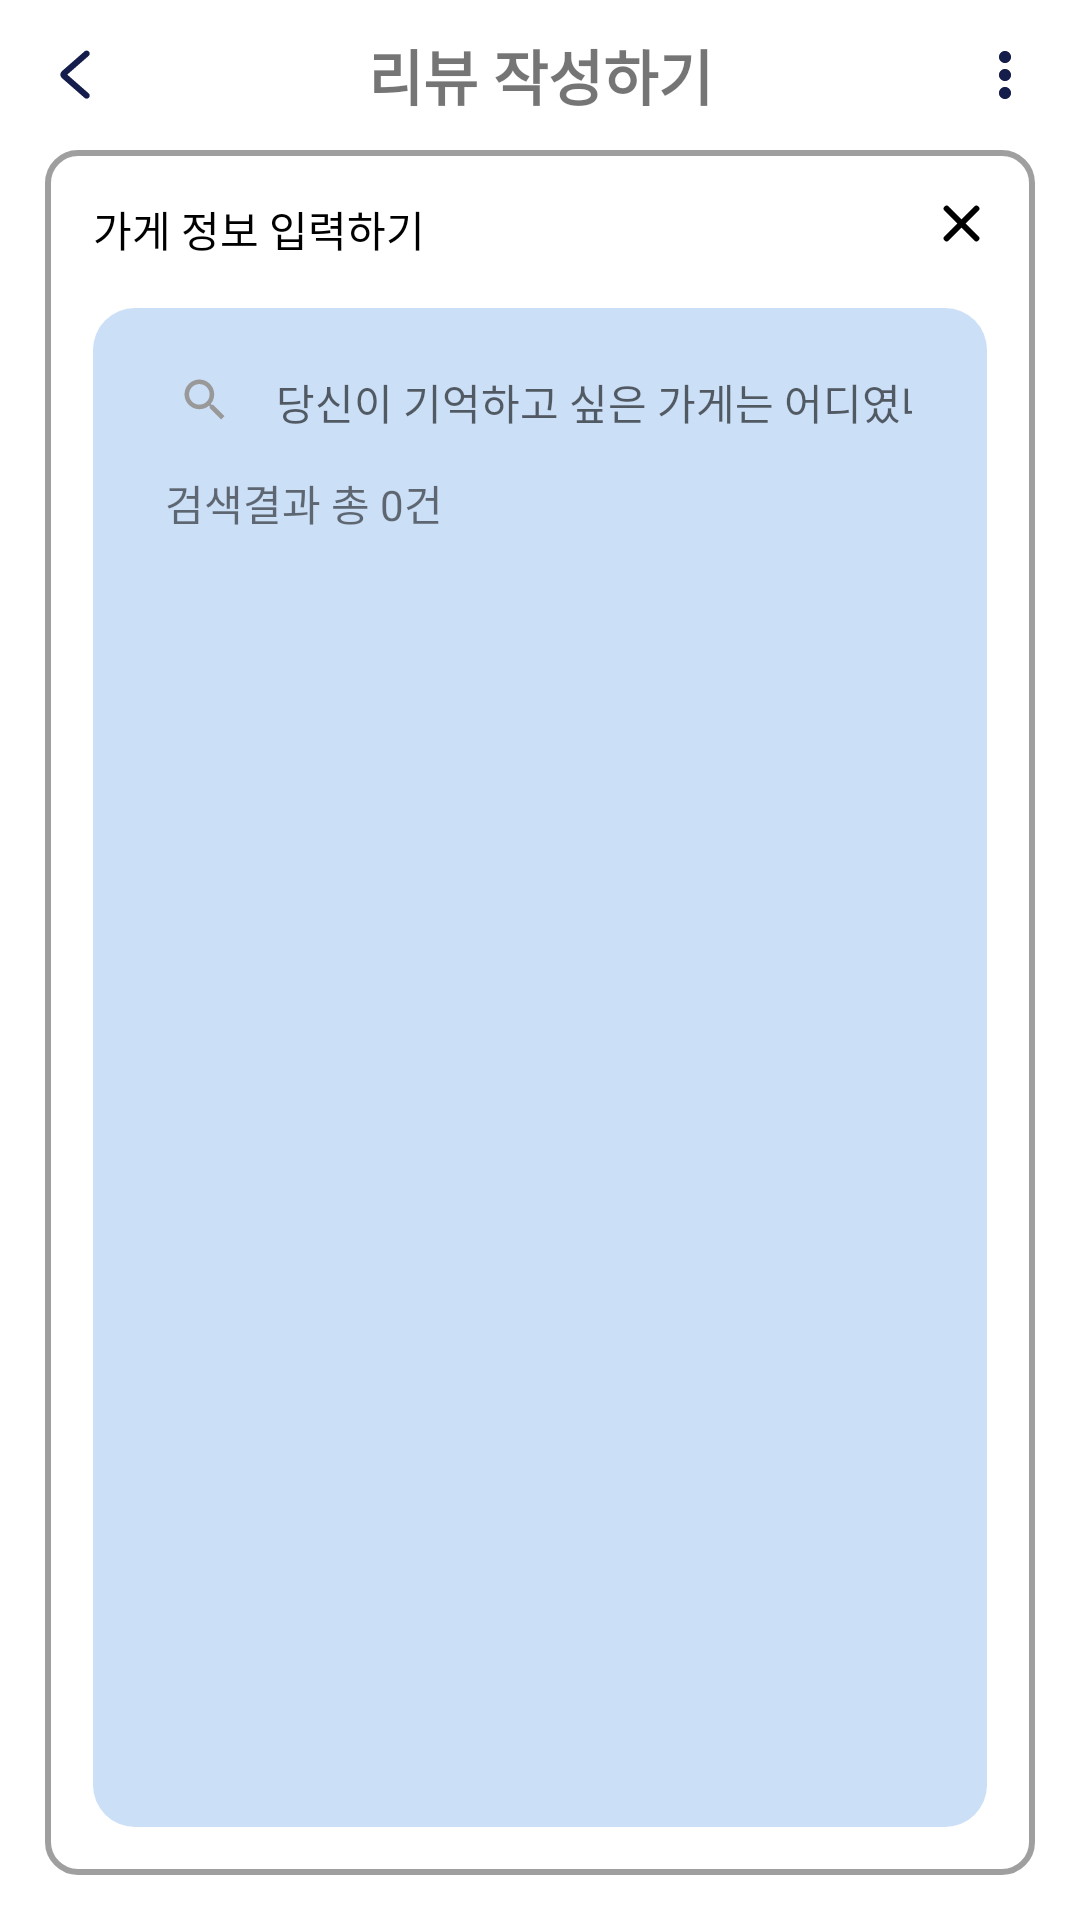

Named icons in this screenshot (1080×1920) and their centers, point (x, y):
arrow left: point (75, 74)
cancel: point (961, 223)
more vertical: point (1005, 75)
search: point (204, 399)
